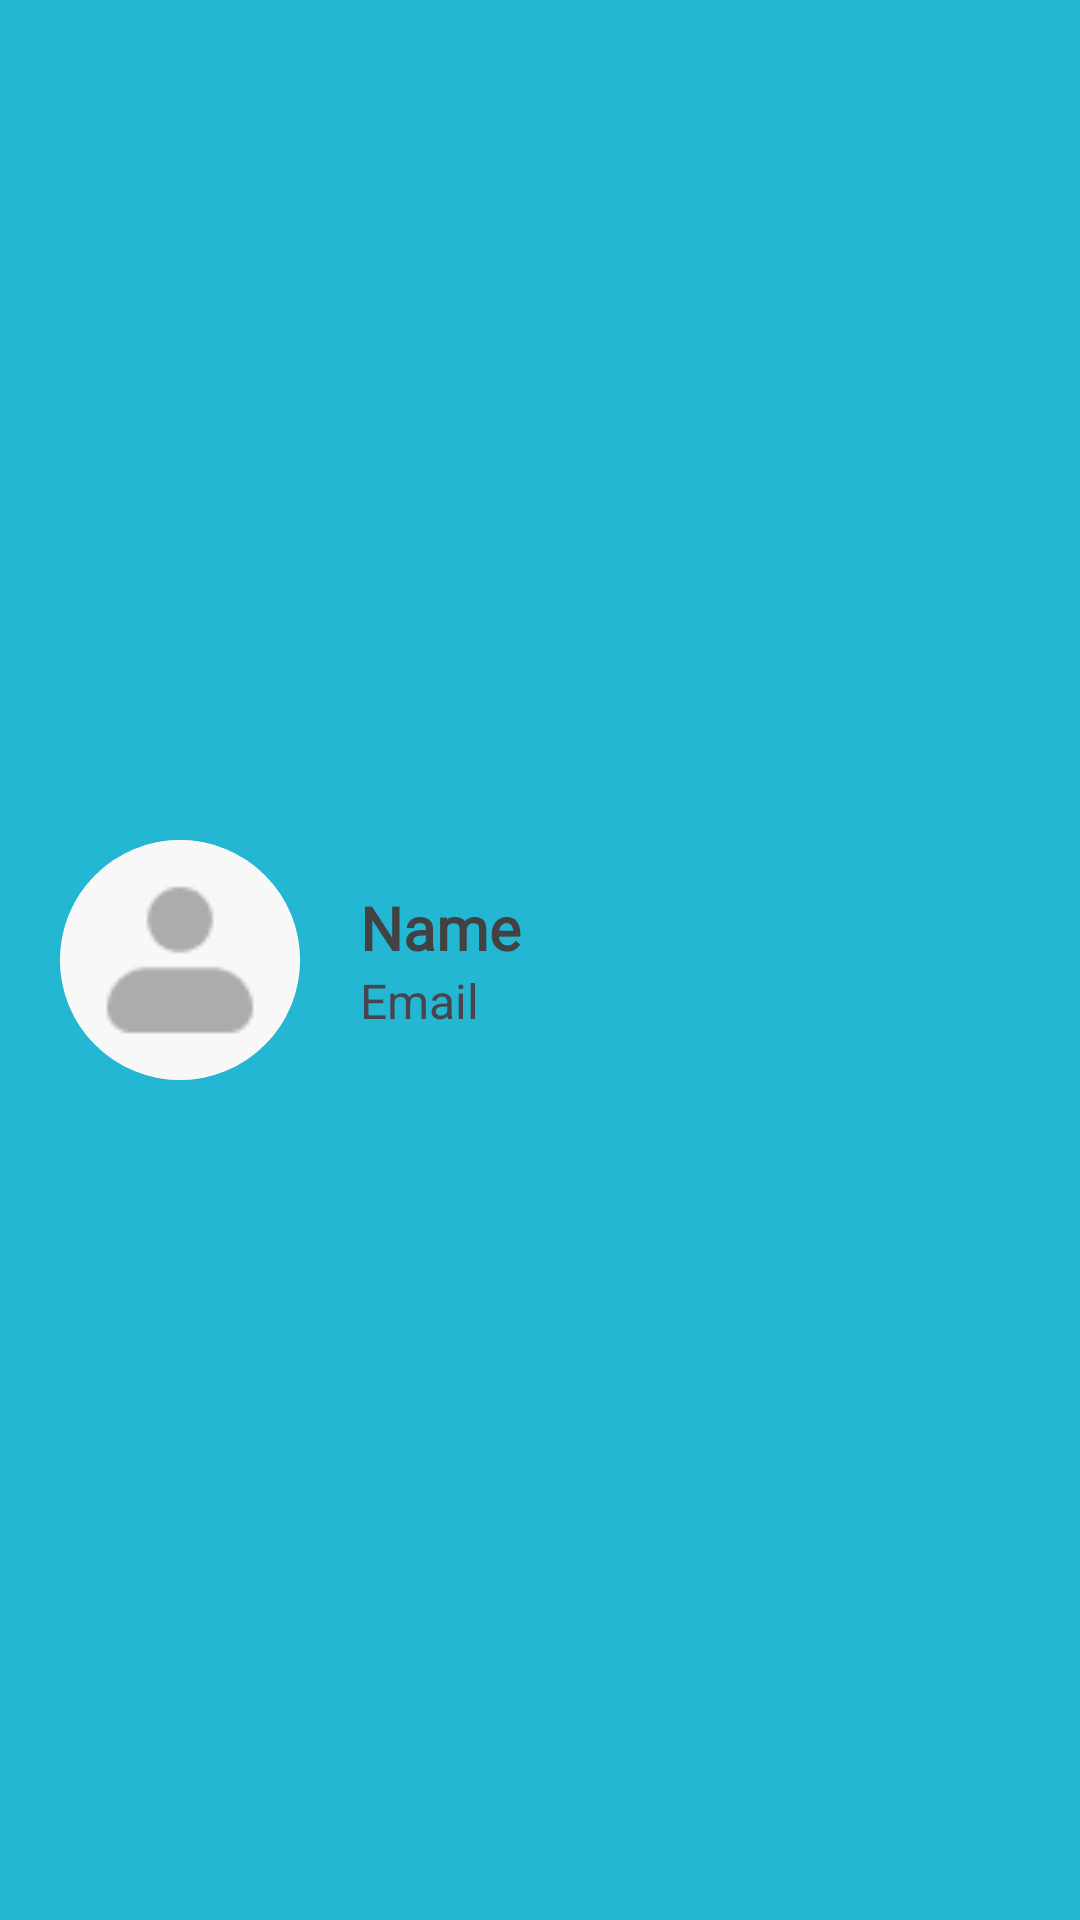

Named icons in this screenshot (1080 × 1920) and their bounding boxes, (x1, y1, x2, y2):
blankprofil: (60, 840, 300, 1080)
